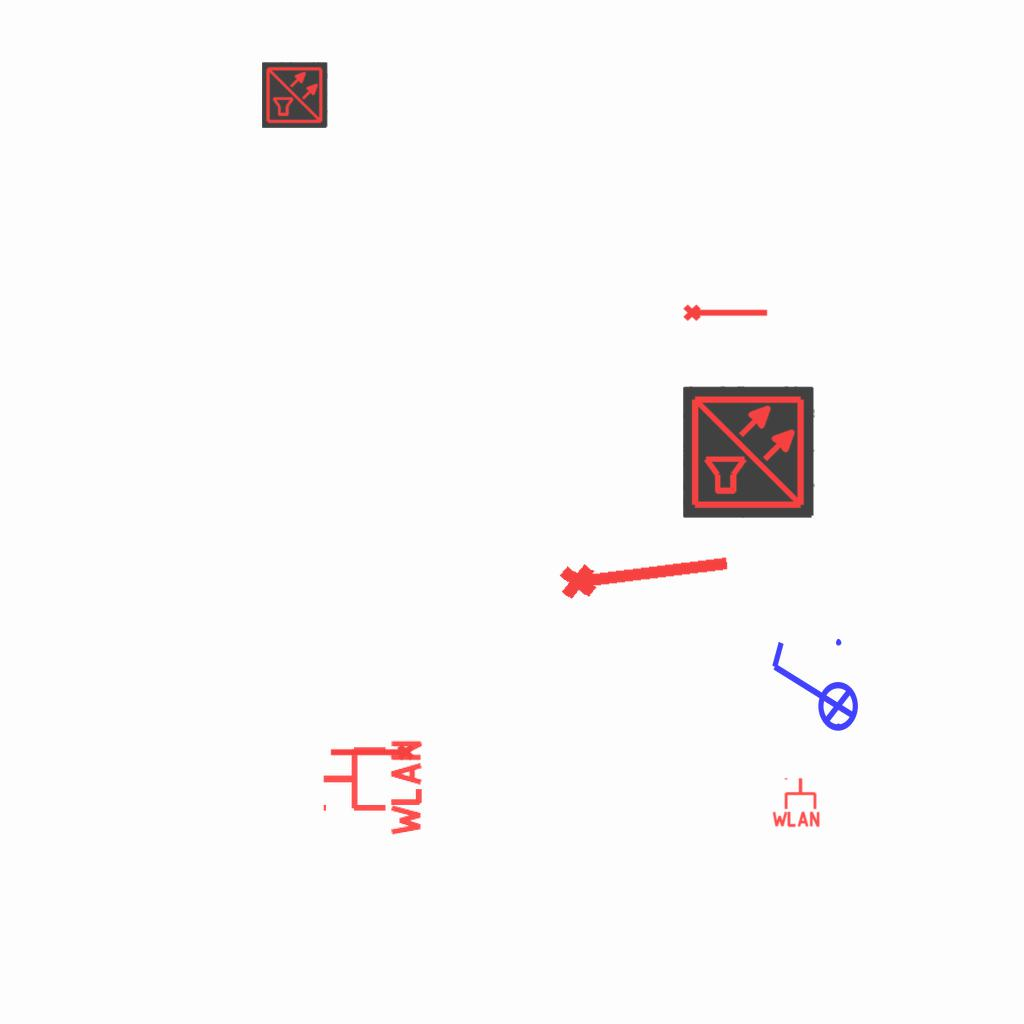ASR_Ansaugoeffnung: (554, 537, 736, 605), (682, 300, 770, 323), (328, 742, 416, 765)
Ausschalter_beleuchtet: (764, 633, 860, 745)
OKW_Multisensormelder_(Kombination_optischer_Rauch-Kahlenmonoxid_Waerme-Melder): (683, 386, 815, 518), (262, 62, 328, 128)
WLAN: (319, 736, 424, 840), (770, 776, 822, 828)
